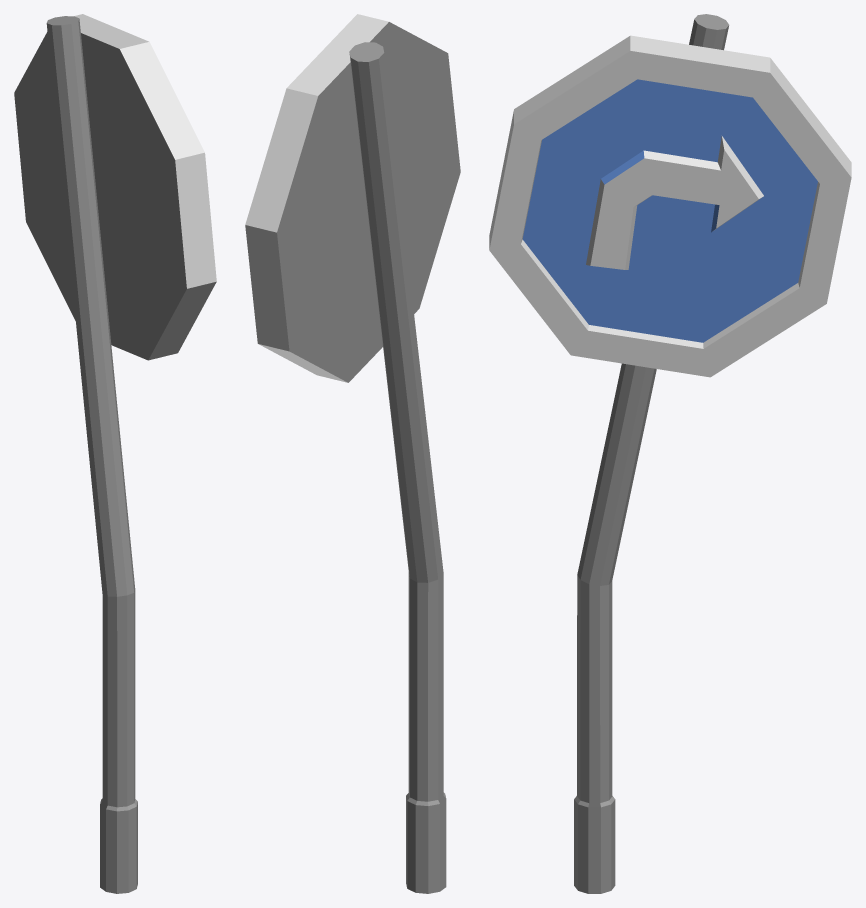
File: turn right.fbx
3 views of the same model, side by side, from view 1: azimuth 30°, elevation 25°; view 2: azimuth 150°, elevation 25°; view 3: azimuth 270°, elevation 25° (orthographic). The views are drawn at different scales.
Parts seen in each view (by area): view 1: Cylinder.001, Cylinder; view 2: Cylinder.001, Cylinder; view 3: Cylinder.001, Cylinder.
Boxes of the visible parts, <box> form: Cylinder.001: <box>14,14,216,360</box>; Cylinder: <box>46,16,137,893</box>; Cylinder.001: <box>245,14,460,382</box>; Cylinder: <box>349,42,446,893</box>; Cylinder.001: <box>489,35,851,377</box>; Cylinder: <box>574,14,729,893</box>.
Bounding box in the file's own units: 410 × 5088 × 1927.
